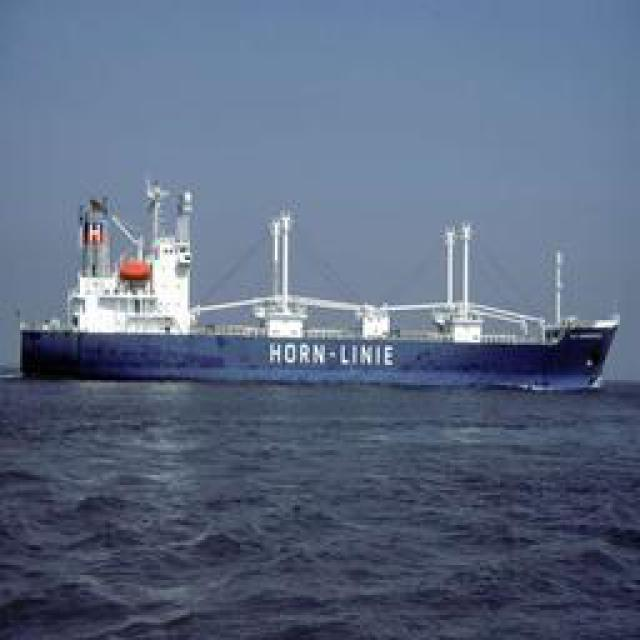Ship: (20, 191, 628, 384)
